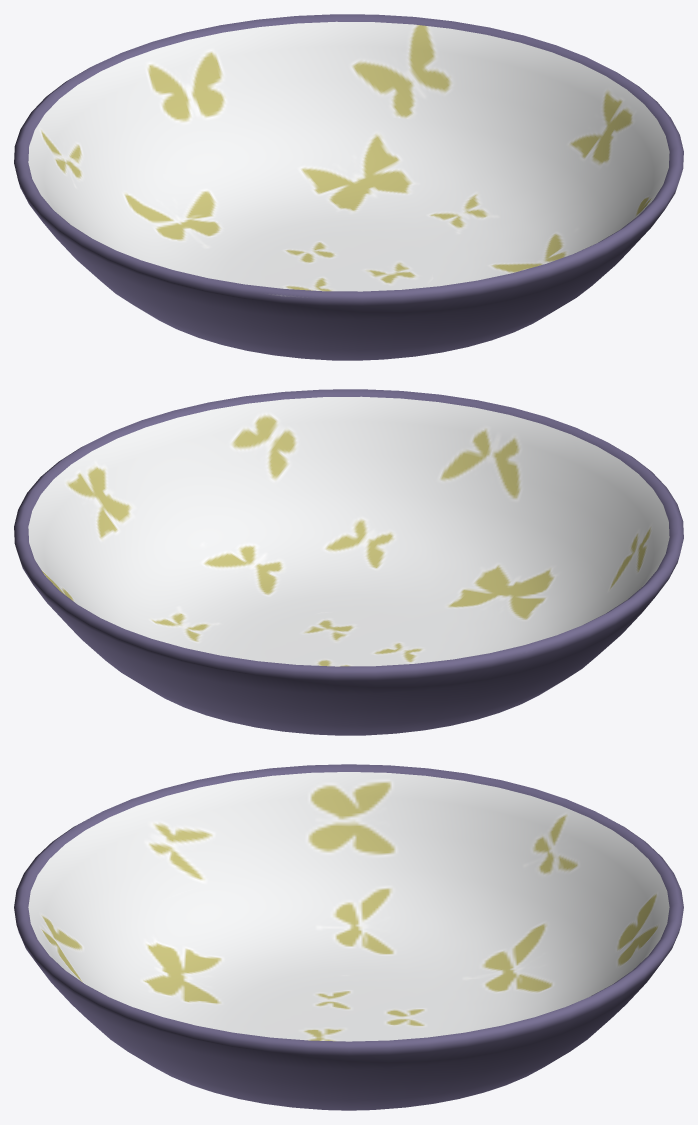
Rendered from Bowl.fbx.
3 renders of one model, top to bottom at view 1: azimuth 30°, elevation 25°; view 2: azimuth 150°, elevation 25°; view 3: azimuth 270°, elevation 25°, orthographic.
Parts seen in each view (by area): view 1: Bowl; view 2: Bowl; view 3: Bowl.
Boxes of the visible parts, left/top/right/bottom form: Bowl: left=14, top=14, right=683, bottom=360; Bowl: left=14, top=389, right=683, bottom=735; Bowl: left=14, top=764, right=683, bottom=1110.
Size of the model in its own units: 38.78 by 8.6 by 38.78.
1 material, 1 textured.
